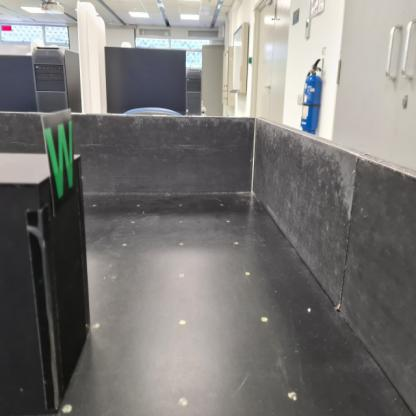w: (40, 109, 81, 218)
